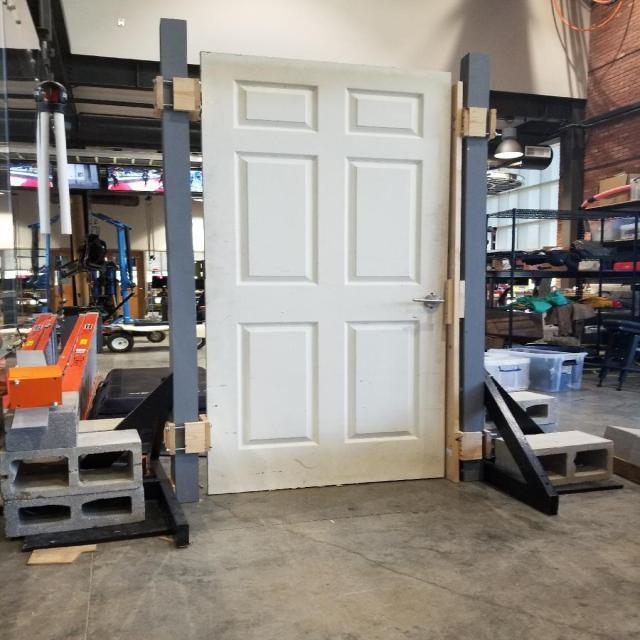door: (196, 50, 454, 498), (412, 290, 446, 312)
